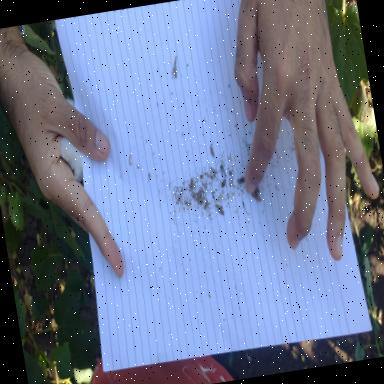pbw: (220, 176, 228, 188), (236, 174, 244, 184), (195, 189, 202, 200), (217, 207, 225, 215), (173, 66, 178, 78), (172, 56, 178, 66), (189, 176, 194, 186), (202, 200, 208, 208), (216, 202, 222, 209), (189, 182, 196, 188), (184, 200, 190, 206)
